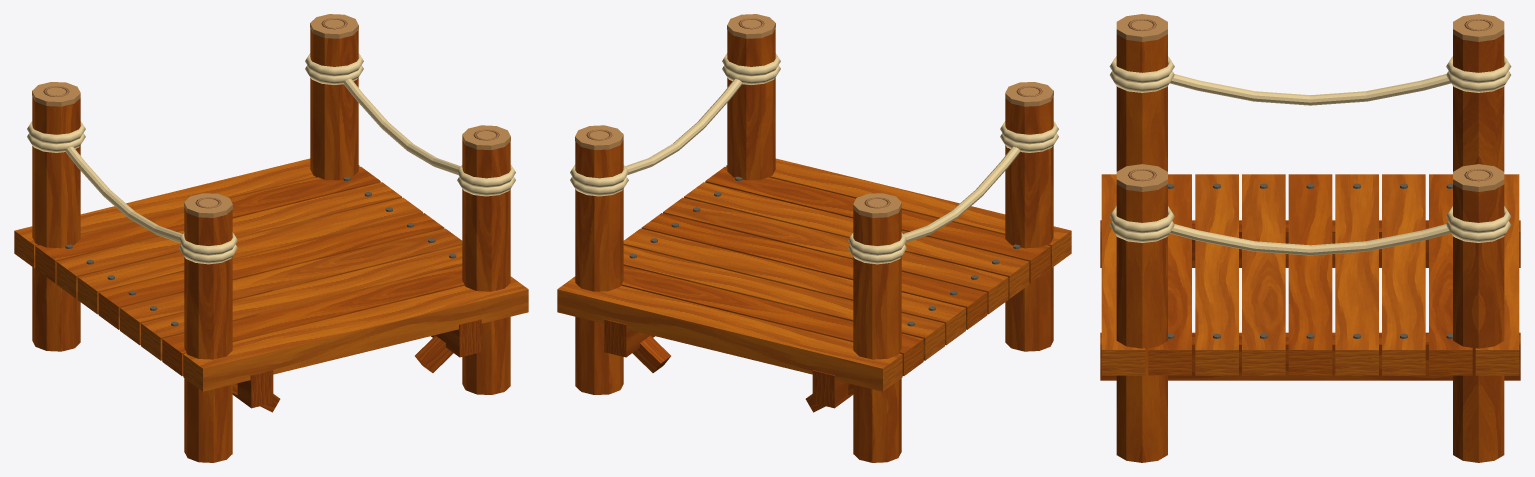
File: wooden-pier.gltf
3 views of the same model, side by side, from view 1: azimuth 30°, elevation 25°; view 2: azimuth 150°, elevation 25°; view 3: azimuth 270°, elevation 25° (orthographic). The views are drawn at different scales.
Visible parts, largest first — view 1: wooden-pier; view 2: wooden-pier; view 3: wooden-pier.
Boxes of the visible parts, x1,y1,x2,y2 form: wooden-pier: (14,14,528,462); wooden-pier: (557,14,1071,462); wooden-pier: (1100,14,1520,462).
Bounding box in the file's own units: 1.8 × 1.31 × 1.8.
Materials: 2 (1 with a texture image).
